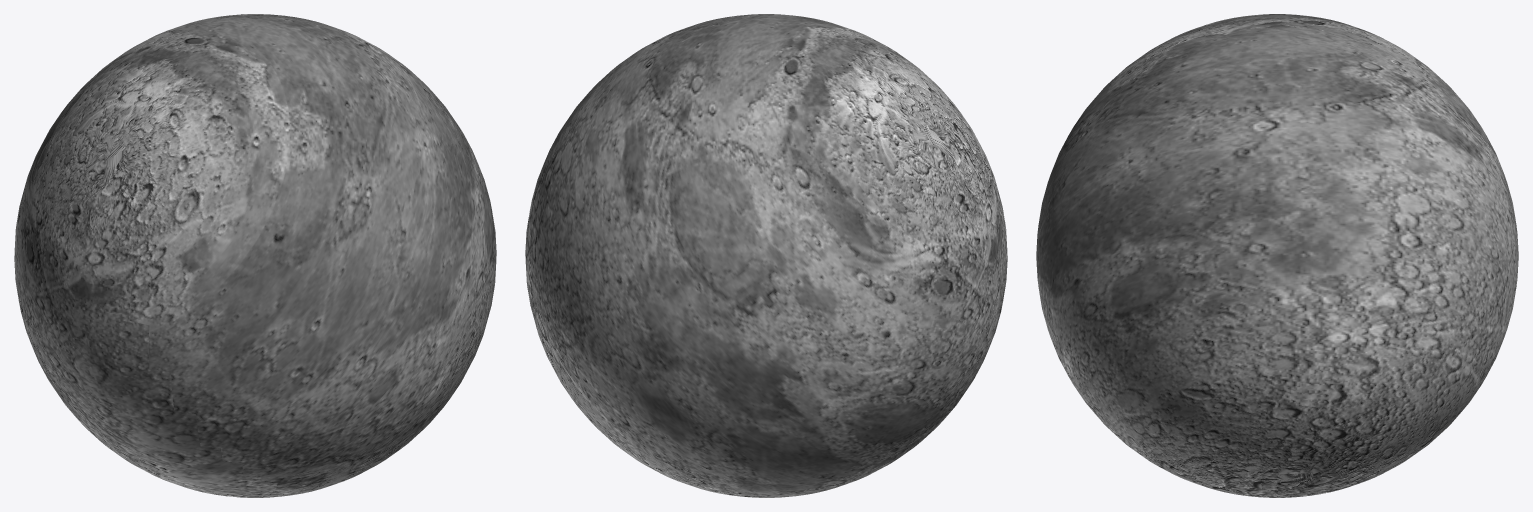
The model's file is moon.fbx.
3 views of the same model, side by side, from view 1: azimuth 30°, elevation 25°; view 2: azimuth 150°, elevation 25°; view 3: azimuth 270°, elevation 25° (orthographic).
Parts seen in each view (by area): view 1: Sphere; view 2: Sphere; view 3: Sphere.
Boxes of the visible parts, <box> form: Sphere: <box>14,14,496,497</box>; Sphere: <box>525,14,1007,497</box>; Sphere: <box>1036,14,1518,497</box>.
Size of the model in its own units: 25.35 by 25.57 by 25.35.
Materials: 1 (1 with a texture image).
